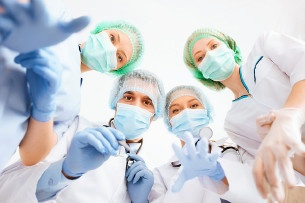Mask: (113, 87, 165, 139)
